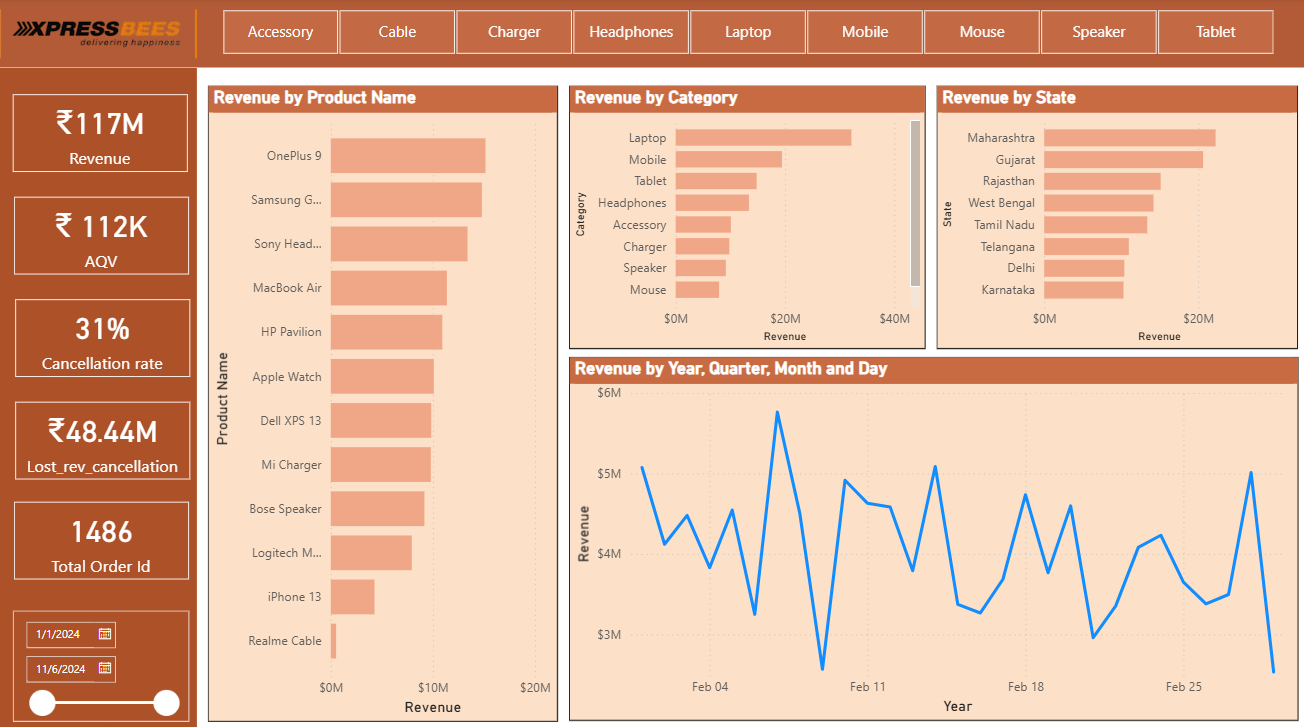

This screenshot's page, from the dashboard's own definition file:
{"tool":"powerbi","page":{"name":"Page 1","canvas":[1280,720],"ordinal":0},"visuals":[{"type":"shape","box":[0,0,1280,68.3],"z":0},{"type":"shape","box":[0,68.8,193.8,651.2],"z":1000},{"type":"image","box":[0,0,193.8,68.8],"z":2000},{"type":"barChart","fields":{"Y":["Table.Revenue"],"Category":["Products.Category"]},"box":[557.5,85,348.8,257.5],"z":3000},{"type":"lineChart","fields":{"Y":["Table.Revenue"],"Category":["Orders.Date and time of purchase.Variation.Date Hierarchy.Year","Orders.Date and time of purchase.Variation.Date Hierarchy.Quarter","Orders.Date and time of purchase.Variation.Date Hierarchy.Month","Orders.Date and time of purchase.Variation.Date Hierarchy.Day"]},"box":[557.5,351.2,713.8,356.2],"z":4000},{"type":"barChart","fields":{"Y":["Table.Revenue"],"Category":["Customers.State"]},"box":[917.5,85,353.8,257.5],"z":5000},{"type":"slicer","fields":{"Values":["Products.Category"]},"box":[193.8,5,1077.5,56.2],"z":6000},{"type":"barChart","fields":{"Y":["Table.Revenue"],"Category":["Products.Product Name"]},"box":[203.8,85,342.5,622.5],"z":7000},{"type":"card","fields":{"Values":["Table.Revenue"]},"box":[13.8,93.8,171.2,76.2],"z":8000},{"type":"card","fields":{"Values":["Table.AQV"]},"box":[15,195,171.2,76.2],"z":9000},{"type":"card","fields":{"Values":["Table.Cancellation rate"]},"box":[16.2,295,171.2,76.2],"z":10000},{"type":"card","fields":{"Values":["Table.Lost_rev_cancellation"]},"box":[16.2,395,171.2,76.2],"z":11000},{"type":"card","fields":{"Values":["CountNonNull(Orders.OrderID)"]},"box":[15,492.5,171.2,76.2],"z":12000},{"type":"slicer","fields":{"Values":["Orders.Date and time of purchase"]},"box":[13.8,598.8,172.5,108.8],"z":13000}]}

Visuals, with their boxes in screenshot pixels (x1, y1, x2, y2), scaled from the page's 1280x720 canvas onto the 1304x727 screenshot:
shape: 0/0/1303/69
shape: 0/69/197/726
image: 0/0/197/69
barChart - Table.Revenue x Products.Category: 568/86/923/346
lineChart - Table.Revenue x Orders.Date and time of purchase.Variation.Date Hierarchy.Year: 568/355/1295/714
barChart - Table.Revenue x Customers.State: 935/86/1295/346
slicer - Products.Category: 197/5/1295/62
barChart - Table.Revenue x Products.Product Name: 208/86/557/714
card - Table.Revenue: 14/95/188/172
card - Table.AQV: 15/197/190/274
card - Table.Cancellation rate: 17/298/191/375
card - Table.Lost_rev_cancellation: 17/399/191/476
card - CountNonNull(Orders.OrderID): 15/497/190/574
slicer - Orders.Date and time of purchase: 14/605/190/714
